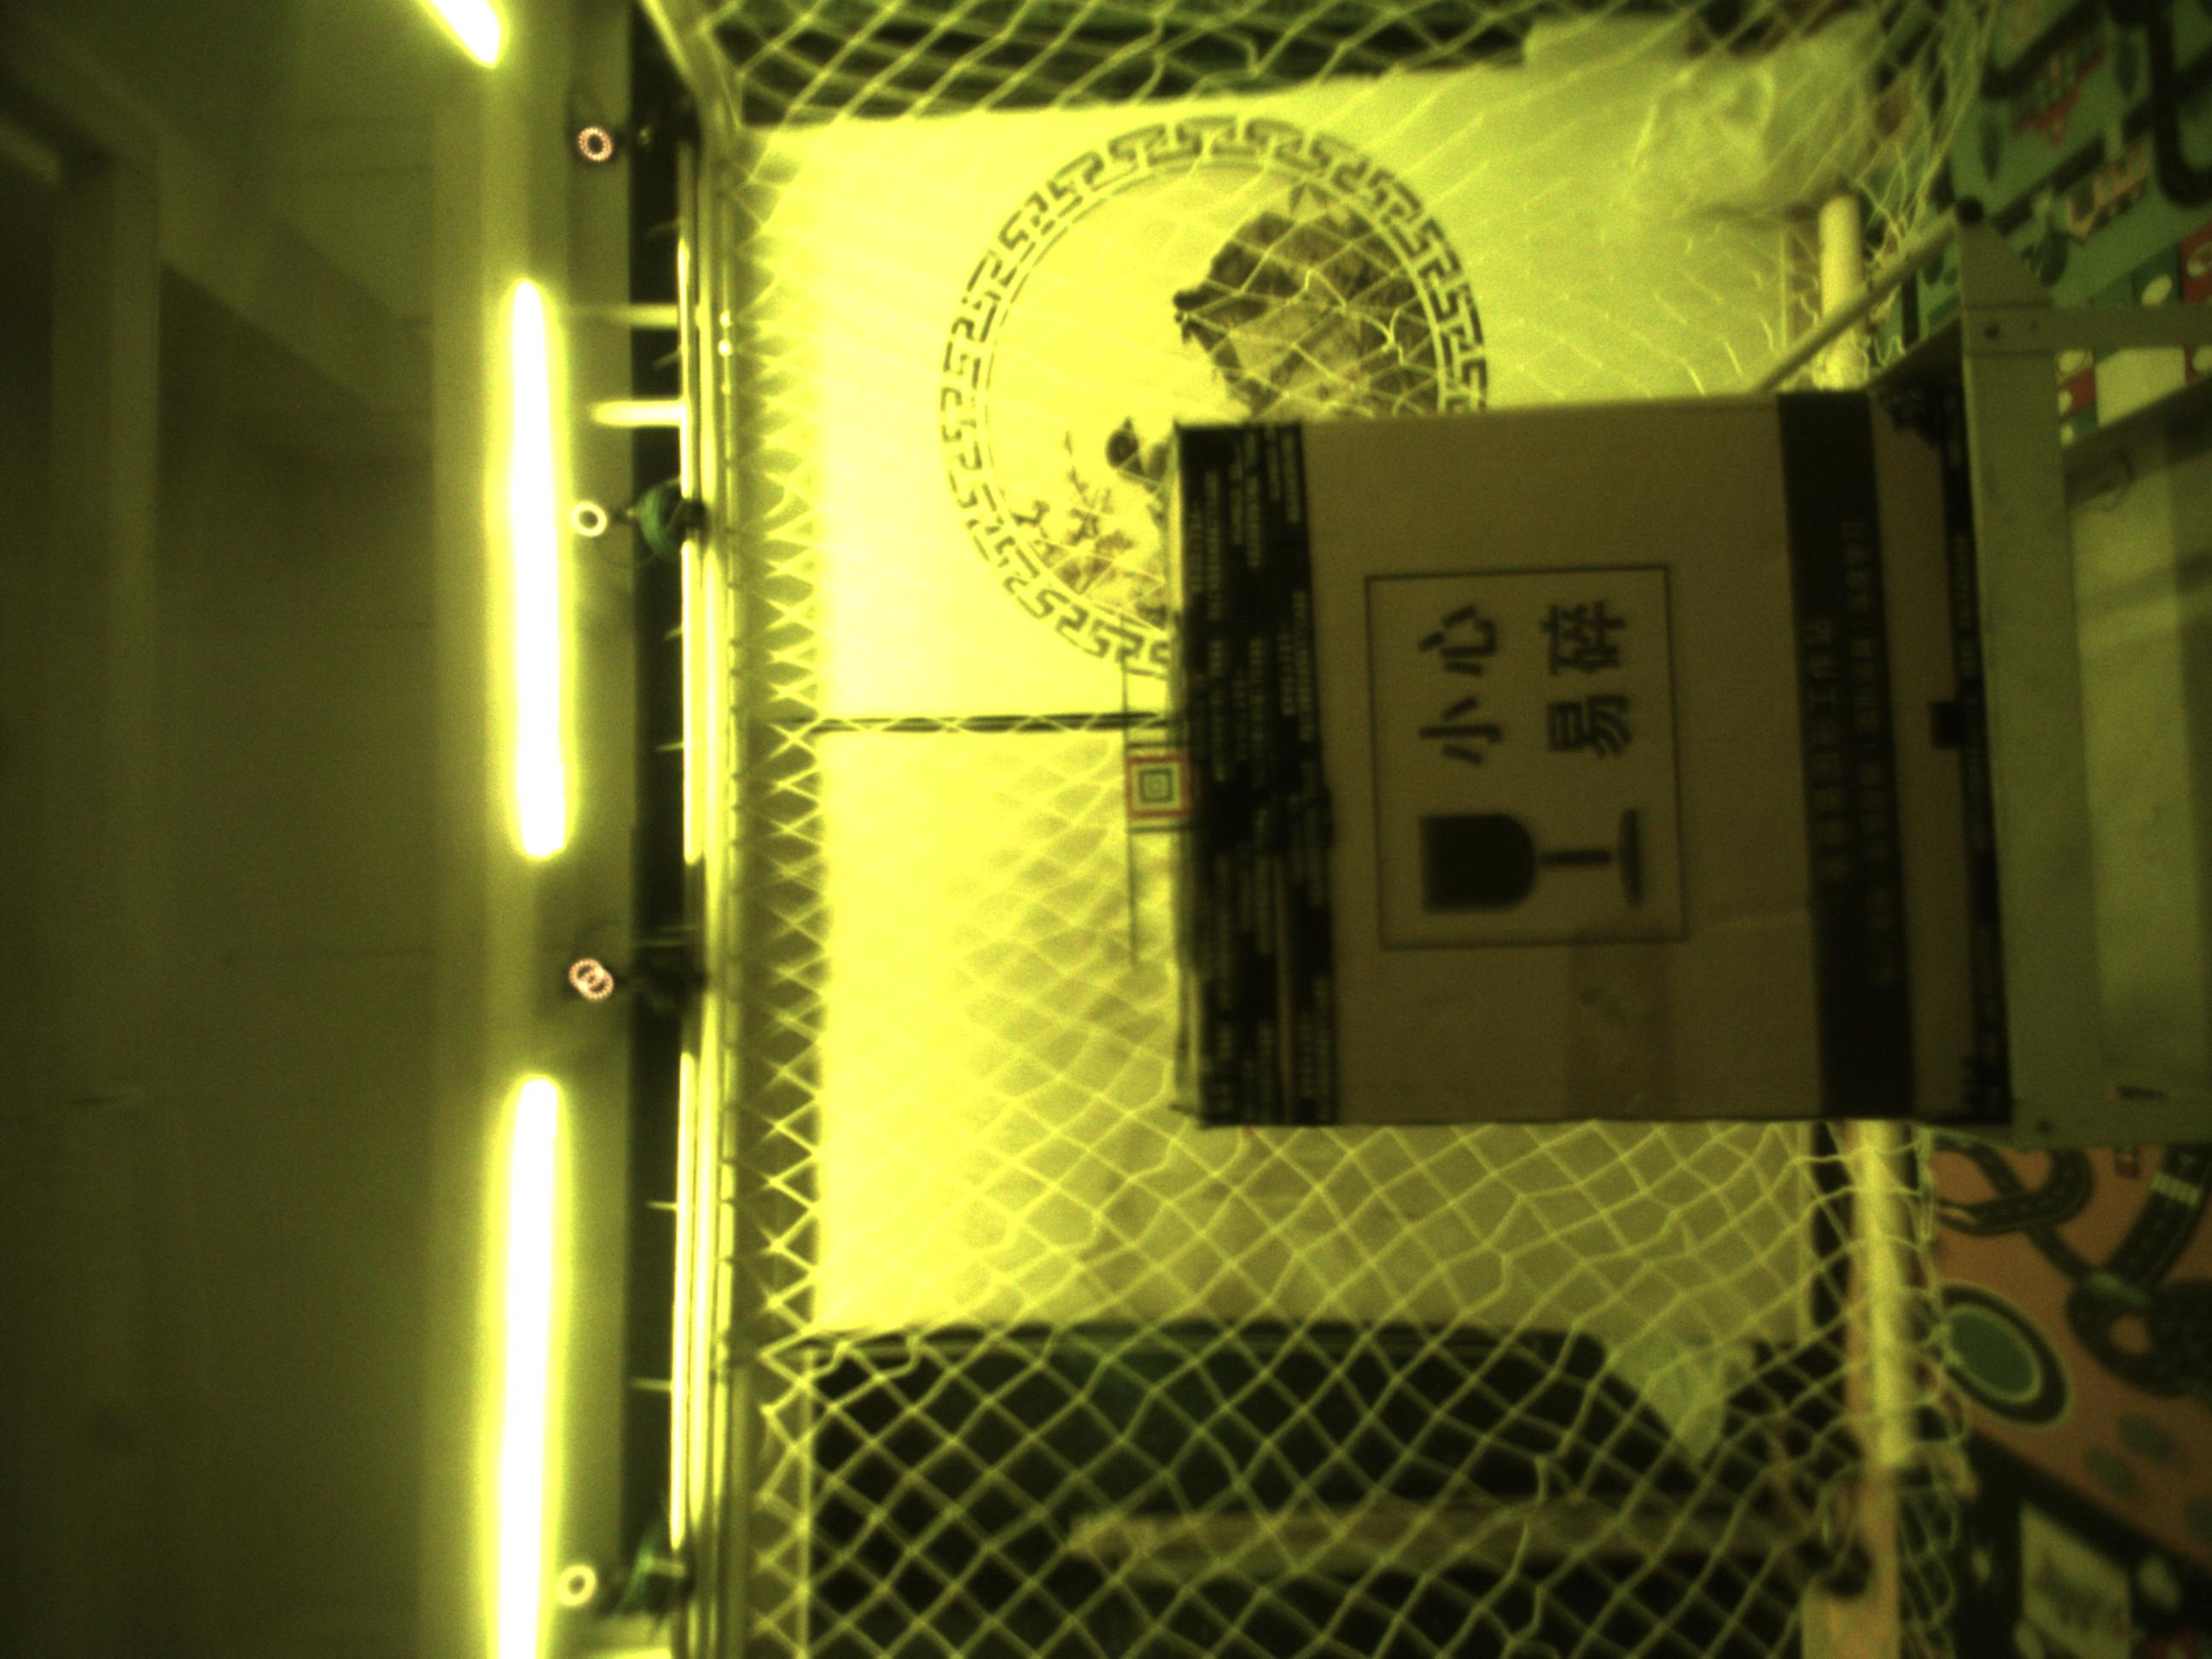outline: (1125, 755, 1193, 819)
